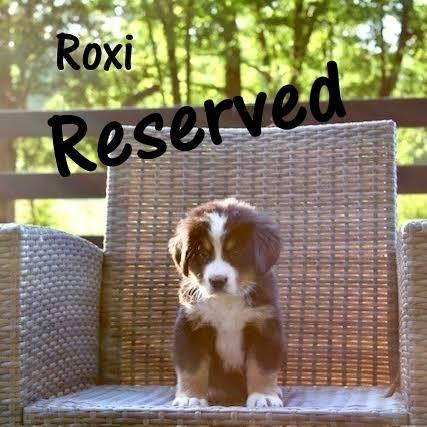puppy-dog: (170, 198, 289, 410)
